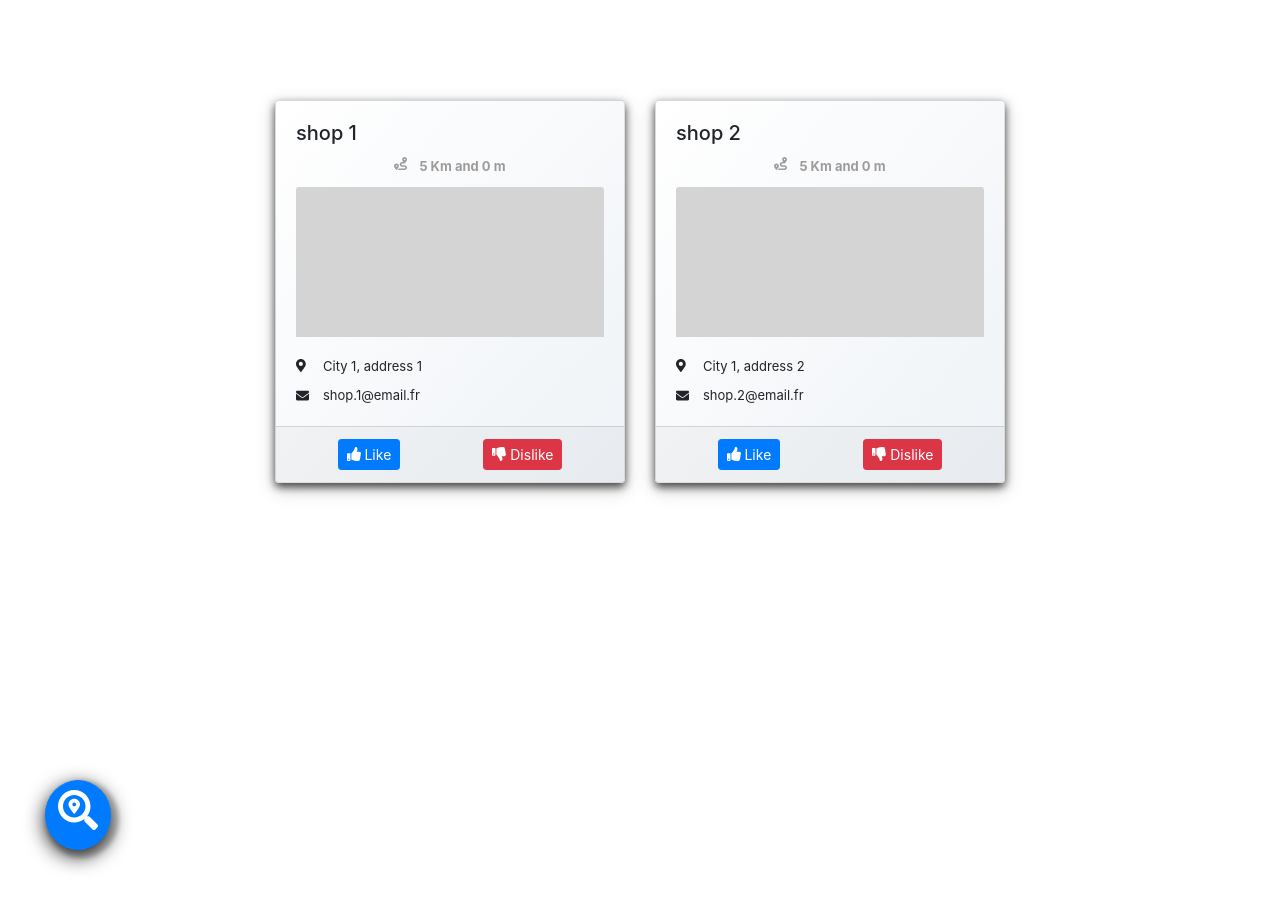
it: unit tests of the component NearbyShopView › should render NearbyShopView Component
Expected: the element with class "nearby-shop-view-card-container" is shown, 275,100 -> 1005,482
Expected: the number of elements with class "nearby-shop-view-card-col" is 2, 260,100 -> 640,482
Click the button with id "display-search-form-button" at (78, 815), box 45,780 -> 111,850
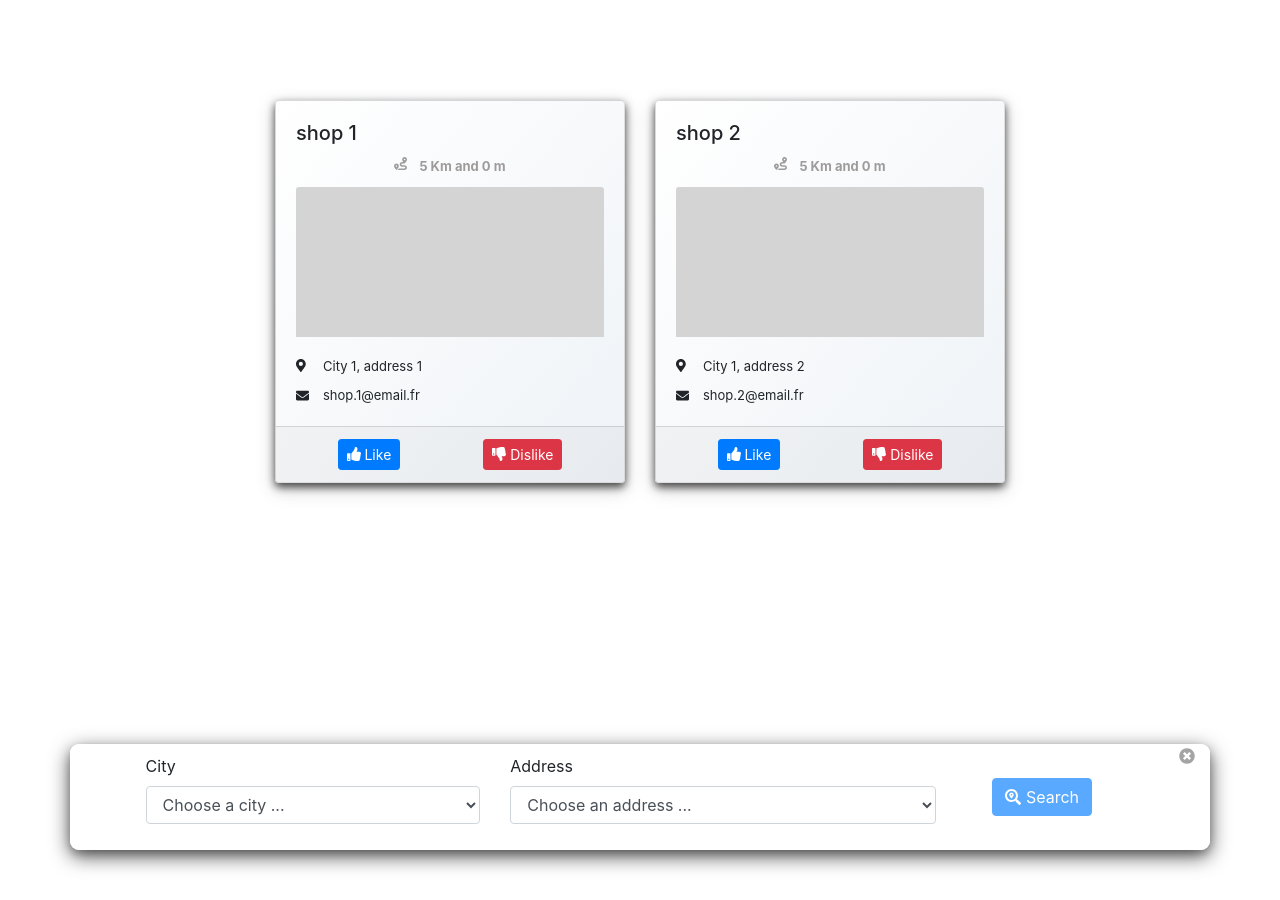
Result: the button with id "display-search-form-button" is gone
Result: the element showing "City Address Search" is shown at 70,744 -> 1210,850
